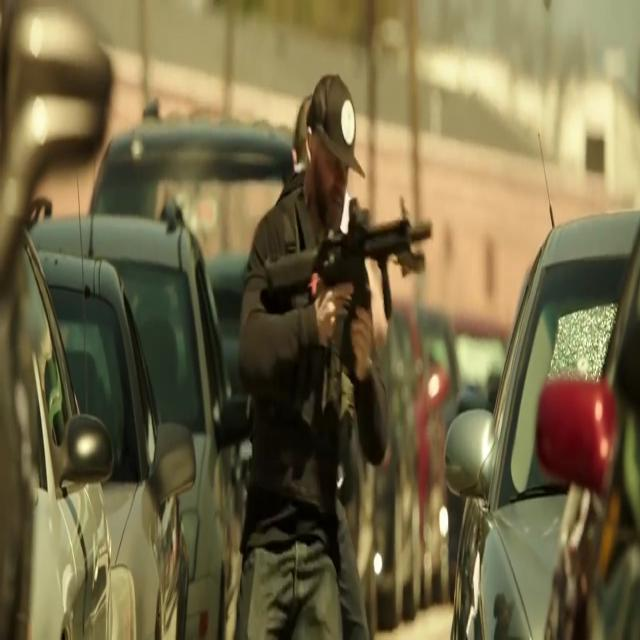Weapon: (242, 196, 431, 388)
